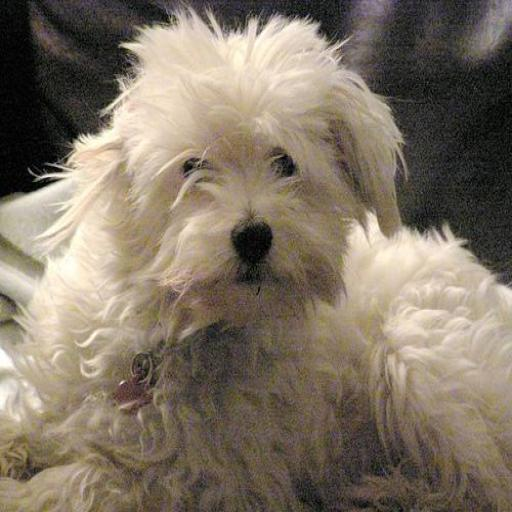dog_face: (118, 30, 369, 334)
